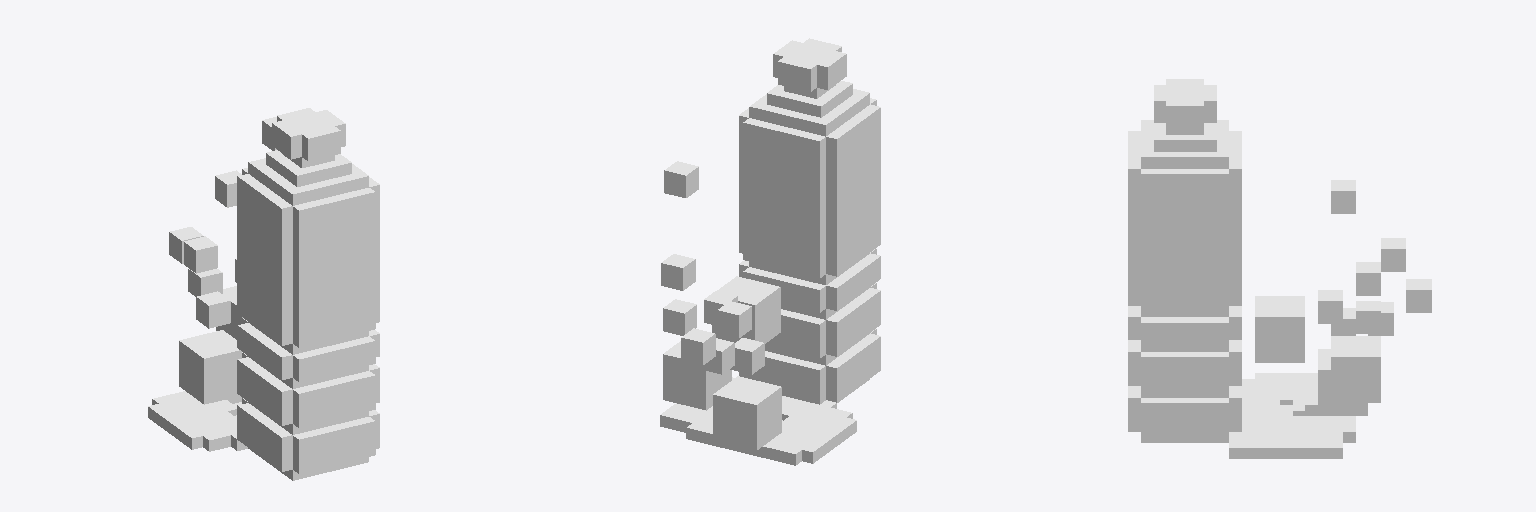
Rendered from obj.waterBottlePaper.obj.
3 views of the same model, side by side, from view 1: azimuth 30°, elevation 25°; view 2: azimuth 150°, elevation 25°; view 3: azimuth 270°, elevation 25° (orthographic).
Visible parts, largest first — view 1: object 1; view 2: object 1; view 3: object 1.
Boxes of the visible parts, x1=… form: object 1: x1=148, y1=108, x2=379, y2=480; object 1: x1=660, y1=38, x2=880, y2=465; object 1: x1=1128, y1=79, x2=1431, y2=458.
Bounding box in the file's own units: 1.4 × 2.9 × 2.4.